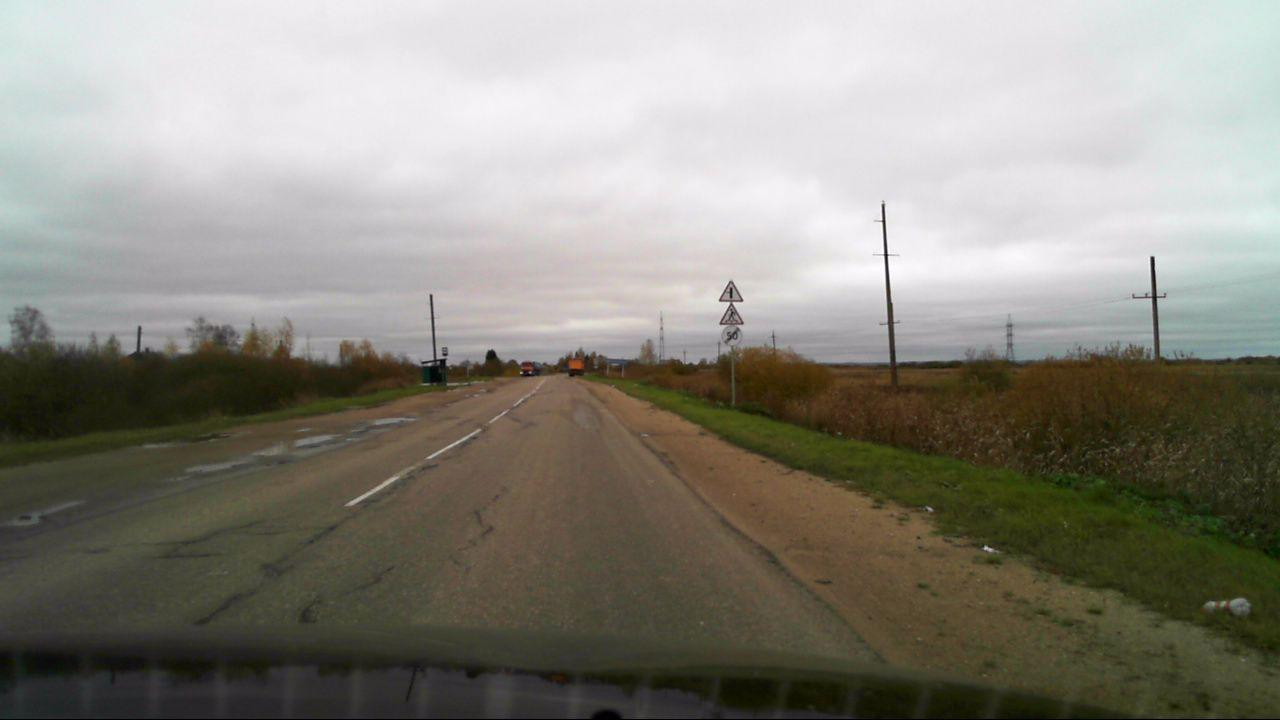1_22: (719, 303, 743, 325)
2_3_3: (718, 278, 747, 301)
3_25: (720, 327, 743, 348)
5_16: (441, 345, 450, 357)
